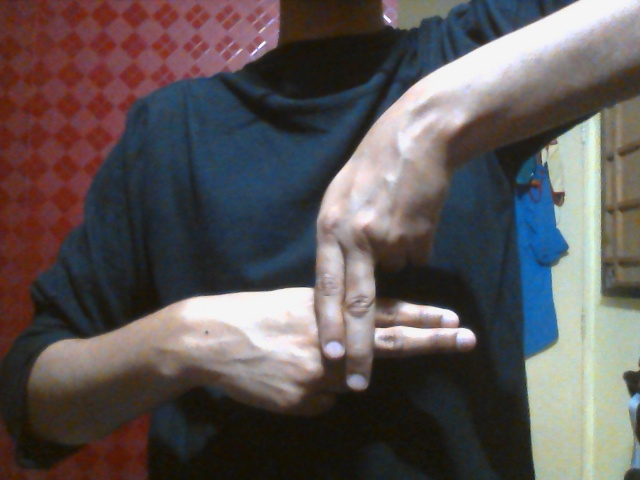F: (204, 132, 477, 419)
